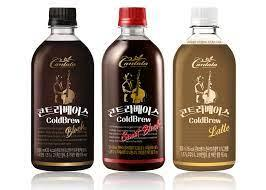contrabass_sweetblack: (98, 5, 167, 173)
